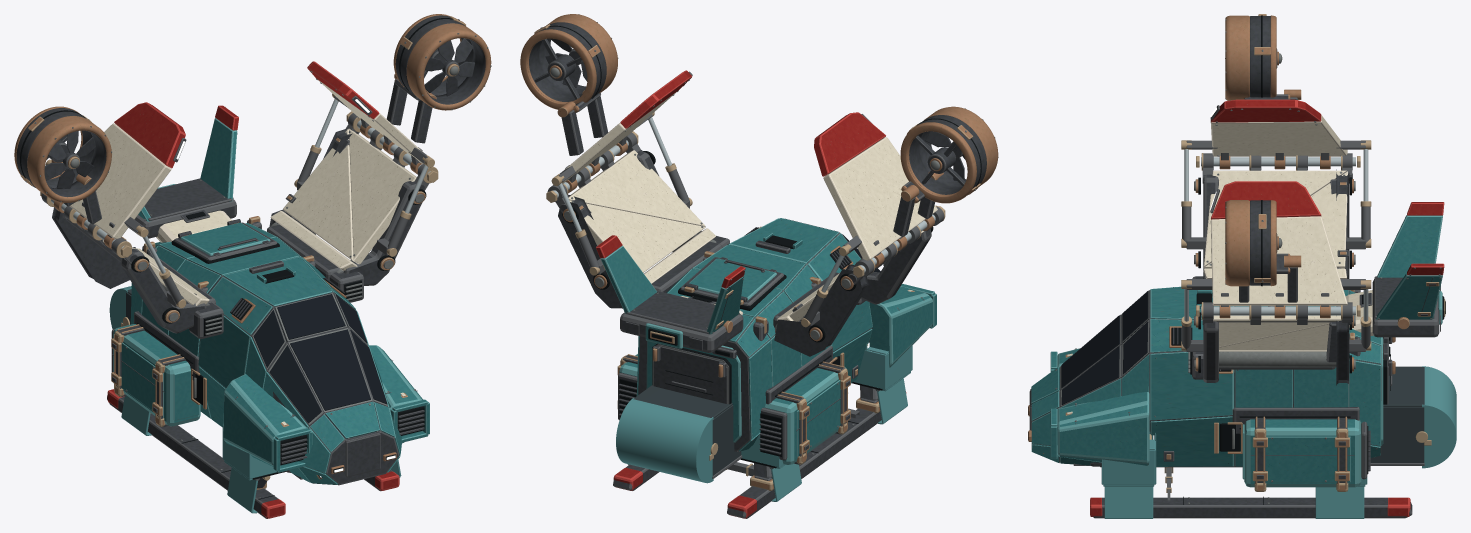
The model's file is ship_morph.glb.
3 renders of one model, left to right at view 1: azimuth 30°, elevation 25°; view 2: azimuth 150°, elevation 25°; view 3: azimuth 270°, elevation 25°, orthographic.
Visible parts, largest first — view 1: Fuselage | Mesh, Wing_inner_R | Mesh, Canopy | Mesh, Wing_outer_L | Mesh, Cargo_pod_L | Mesh, Wing_inner_L | Mesh, Cheek_L | Mesh, Fan_housing_R | Mesh, Fan_housing_L | Mesh, Skid_L | Mesh, Tail_bridge | Mesh, Cheek_R | Mesh (+11 smaller); view 2: Fuselage | Mesh, Wing_inner_R | Mesh, Wing_outer_L | Mesh, Fan_housing_L | Mesh, Fan_housing_R | Mesh, Cargo_pod_L | Mesh, Wing_inner_L | Mesh, Belly bay | aft door return fairing, Tail_bridge | Mesh, Rear_door | Mesh, Cheek_L | Mesh, Skid_L | Mesh (+18 smaller); view 3: Fuselage | Mesh, Wing_outer_R | Mesh, Cargo_pod_R | Mesh, Wing_outer_L | Mesh, Wing_inner_R | Mesh, Cheek_R | Mesh, Wing_inner_L | Mesh, Canopy | Mesh, Skid_R | Mesh, Fan_housing_R | Mesh, Fan_housing_L | Mesh, Tail_fin_L | Mesh (+12 smaller).
Part boxes in pixels (box(x1,y1,x2,y2)): Fuselage | Mesh: box(130, 209, 402, 485); Wing_inner_R | Mesh: box(269, 128, 426, 285); Canopy | Mesh: box(252, 293, 387, 425); Wing_outer_L | Mesh: box(69, 102, 186, 239); Cargo_pod_L | Mesh: box(111, 324, 200, 426); Wing_inner_L | Mesh: box(52, 207, 209, 333); Cheek_L | Mesh: box(223, 374, 312, 472); Fan_housing_R | Mesh: box(393, 14, 491, 110); Fan_housing_L | Mesh: box(14, 106, 112, 202); Skid_L | Mesh: box(107, 389, 285, 518); Tail_bridge | Mesh: box(134, 178, 236, 238); Cheek_R | Mesh: box(369, 345, 429, 442); Fuselage | Mesh: box(636, 218, 880, 451); Wing_inner_R | Mesh: box(558, 150, 715, 308); Wing_outer_L | Mesh: box(814, 112, 937, 260); Fan_housing_L | Mesh: box(900, 106, 998, 203); Fan_housing_R | Mesh: box(520, 14, 618, 112); Cargo_pod_L | Mesh: box(759, 361, 850, 464); Wing_inner_L | Mesh: box(774, 227, 933, 356); Belly bay | aft door return fairing: box(616, 398, 713, 482); Tail_bridge | Mesh: box(620, 291, 743, 352); Rear_door | Mesh: box(652, 343, 731, 404); Cheek_L | Mesh: box(869, 284, 936, 367); Skid_L | Mesh: box(727, 392, 906, 518); Fuselage | Mesh: box(1027, 276, 1390, 467); Wing_outer_R | Mesh: box(1210, 181, 1347, 305); Cargo_pod_R | Mesh: box(1242, 416, 1370, 491); Wing_outer_L | Mesh: box(1210, 99, 1347, 156); Wing_inner_R | Mesh: box(1194, 312, 1355, 385); Cheek_R | Mesh: box(1050, 392, 1149, 465); Wing_inner_L | Mesh: box(1194, 169, 1355, 278); Canopy | Mesh: box(1060, 290, 1149, 406); Skid_R | Mesh: box(1090, 496, 1412, 518); Fan_housing_R | Mesh: box(1225, 200, 1290, 286); Fan_housing_L | Mesh: box(1225, 14, 1290, 100); Tail_fin_L | Mesh: box(1377, 202, 1444, 277).
Size of the model in its own units: 8.87 by 7.02 by 7.28.
17 materials, 6 textured.
